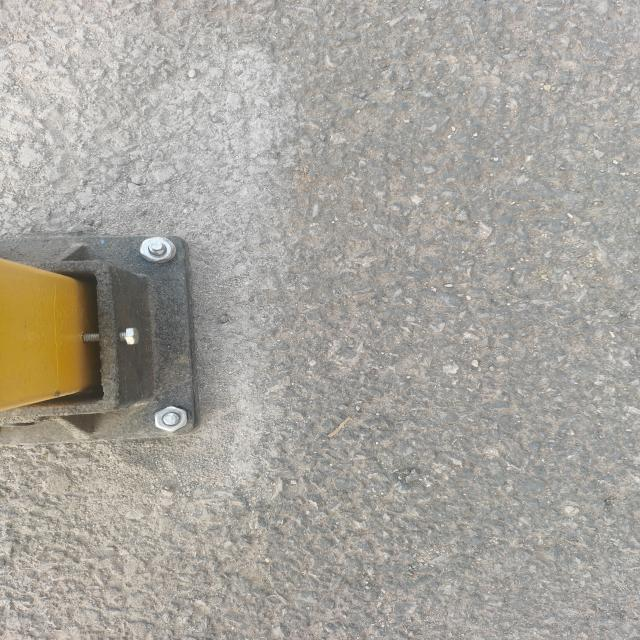bolt nut: (136, 235, 178, 264), (151, 405, 191, 433)
bolt side: (124, 326, 140, 346)
